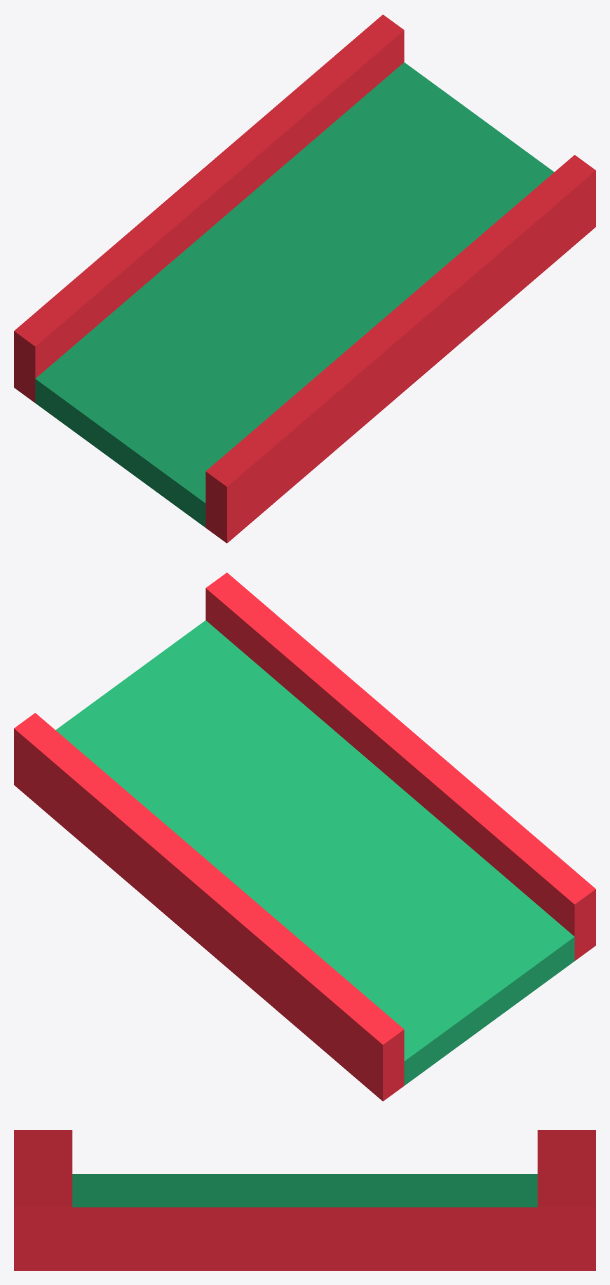
The model's file is rampD.obj.
The picture shows the model from 3 angles, top to bottom: view 1: azimuth 30°, elevation 25°; view 2: azimuth 150°, elevation 25°; view 3: azimuth 270°, elevation 25°; orthographic projection. The views are drawn at different scales.
Visible parts, largest first — view 1: rampD; view 2: rampD; view 3: rampD.
Part boxes in pixels (x1,y1,x2,y2): rampD: (14,14,595,543); rampD: (14,572,595,1101); rampD: (14,1130,595,1270).
Size of the model in its own units: 0.9999 by 0.7333 by 0.9999.
